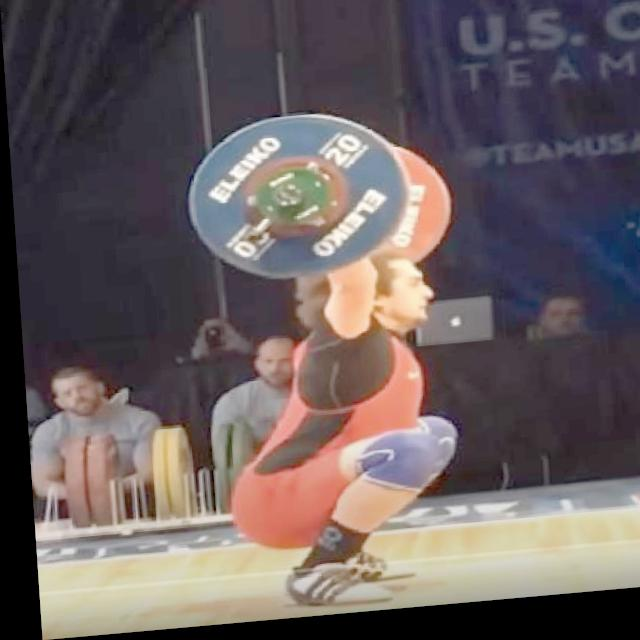barbell: (177, 104, 410, 293)
